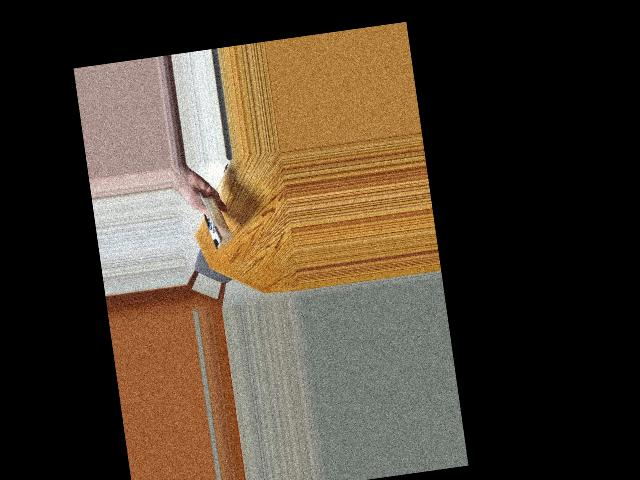cheese: (188, 193, 239, 249)
